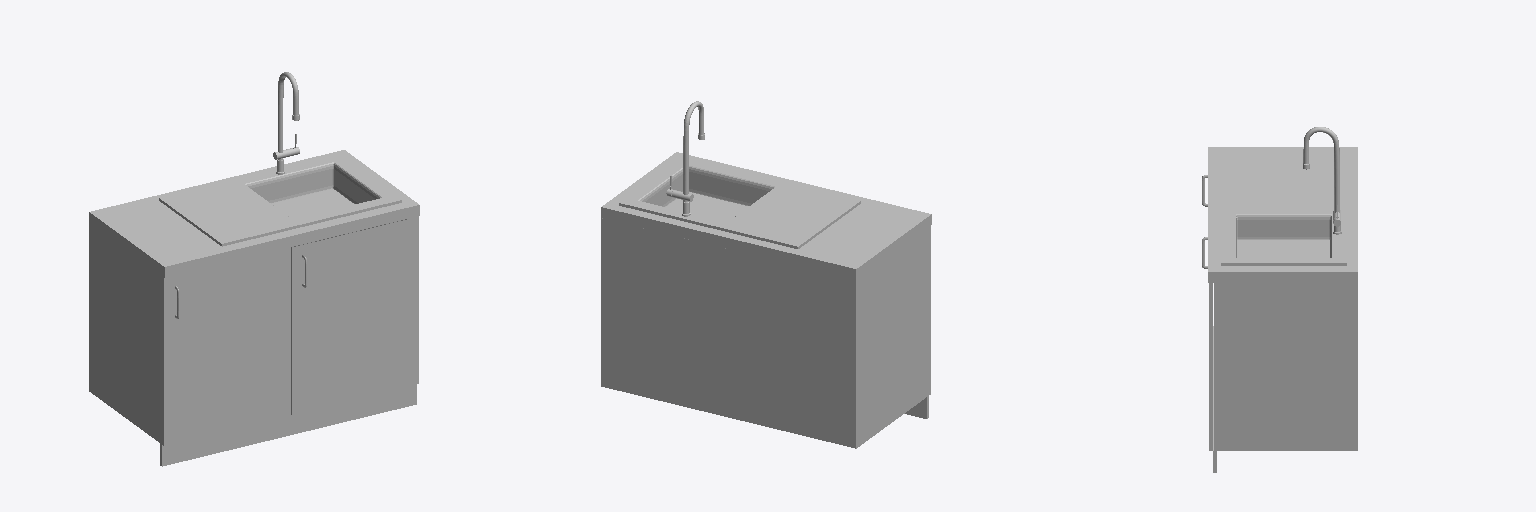
Rendered from sink.obj.
3 views of the same model, side by side, from view 1: azimuth 30°, elevation 25°; view 2: azimuth 150°, elevation 25°; view 3: azimuth 270°, elevation 25° (orthographic).
Visible parts, largest first — view 1: Plane, Cabinet1_Door.001, Cabinet1_Door, Cabinet1.001, Baseboard1.001, Baseboard1, Cylinder; view 2: Cabinet1.001, Plane, Cabinet1, Cylinder; view 3: Cabinet1, Plane, Cylinder, Cabinet1_Door.
Part boxes in pixels (bbox=[...]): Plane: bbox=[89, 150, 419, 277]; Cabinet1_Door.001: bbox=[162, 247, 290, 445]; Cabinet1_Door: bbox=[291, 216, 418, 414]; Cabinet1.001: bbox=[89, 223, 161, 443]; Baseboard1.001: bbox=[160, 416, 288, 466]; Baseboard1: bbox=[289, 385, 416, 435]; Cylinder: bbox=[276, 72, 299, 174]; Cabinet1.001: bbox=[729, 228, 928, 448]; Plane: bbox=[601, 152, 931, 279]; Cabinet1: bbox=[601, 218, 728, 417]; Cylinder: bbox=[682, 101, 704, 216]; Cabinet1: bbox=[1214, 283, 1357, 450]; Plane: bbox=[1208, 147, 1357, 282]; Cylinder: bbox=[1303, 127, 1341, 234]; Cabinet1_Door: bbox=[1209, 283, 1212, 450].
Bounding box in the file's own units: 1.2 × 1.4 × 0.6389.